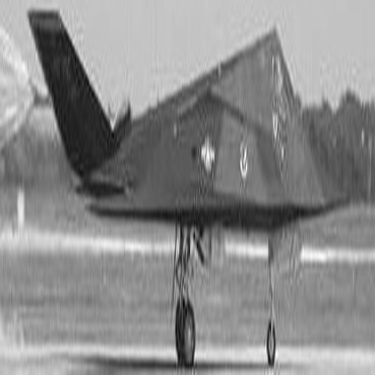airplane: (3, 2, 369, 370)
